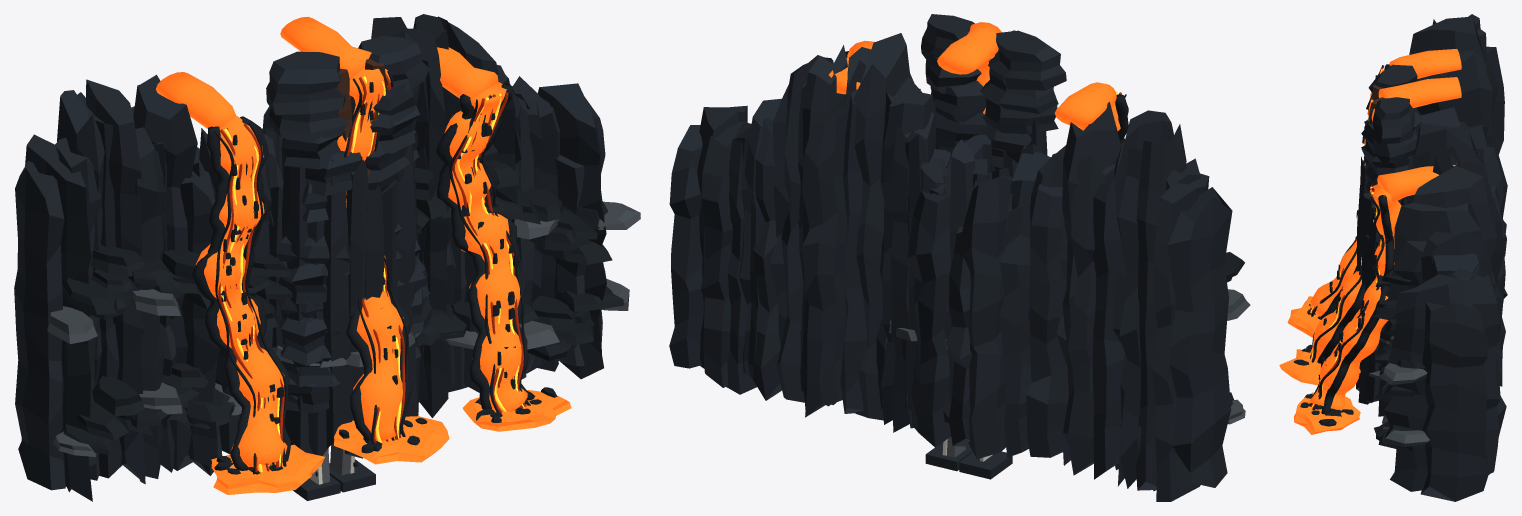
Rendered from cindercoil-hero-kit.glb.
3 views of the same model, side by side, from view 1: azimuth 30°, elevation 25°; view 2: azimuth 150°, elevation 25°; view 3: azimuth 270°, elevation 25° (orthographic). The views are drawn at different scales.
Parts seen in each view (by area): view 1: rupture_wall__Basalt, rupture_wall__Blackglass, hollow_tower__Basalt, rupture_left__Basalt, cascade_0__Lava, cascade_2__Lava, cascade_1__Lava, cascade_0__Blackglass, cascade_2__Blackglass, rupture_right__Basalt, rupture_wall__Ash, cascade_1__Blackglass (+7 smaller); view 2: rupture_wall__Basalt, rupture_left__Basalt, hollow_tower__Basalt, rupture_right__Basalt, cascade_1__Lava, cascade_0__Lava, broken_launch_pylon__Basalt, rupture_wall__Ash; view 3: rupture_wall__Basalt, cascade_2__Lava, rupture_right__Basalt, cascade_1__Lava, cascade_2__Blackglass, cascade_0__Lava, hollow_tower__Basalt, rupture_wall__Blackglass, rupture_wall__Ash, cascade_1__Blackglass, rupture_left__Basalt, cascade_0__Blackglass.
Boxes of the visible parts, x1,y1,x2,y2 form: rupture_wall__Basalt: [14, 14, 606, 501]; rupture_wall__Blackglass: [60, 160, 624, 454]; hollow_tower__Basalt: [261, 106, 420, 458]; rupture_left__Basalt: [266, 51, 362, 413]; cascade_0__Lava: [156, 72, 324, 494]; cascade_2__Lava: [437, 47, 571, 431]; cascade_1__Lava: [280, 16, 449, 464]; cascade_0__Blackglass: [192, 116, 291, 474]; cascade_2__Blackglass: [436, 84, 557, 422]; rupture_right__Basalt: [358, 36, 432, 358]; rupture_wall__Ash: [47, 201, 640, 456]; cascade_1__Blackglass: [336, 70, 427, 453]; rupture_wall__Basalt: [669, 33, 1232, 501]; rupture_left__Basalt: [979, 30, 1066, 170]; hollow_tower__Basalt: [901, 119, 1047, 425]; rupture_right__Basalt: [921, 14, 987, 155]; cascade_1__Lava: [937, 22, 1001, 113]; cascade_0__Lava: [1054, 82, 1120, 131]; broken_launch_pylon__Basalt: [925, 442, 1012, 479]; rupture_wall__Ash: [1227, 289, 1250, 424]; rupture_wall__Basalt: [1384, 14, 1507, 501]; cascade_2__Lava: [1294, 164, 1456, 434]; rupture_right__Basalt: [1361, 97, 1417, 370]; cascade_1__Lava: [1279, 77, 1461, 385]; cascade_2__Blackglass: [1300, 183, 1394, 426]; cascade_0__Lava: [1287, 49, 1461, 337]; hollow_tower__Basalt: [1356, 149, 1483, 416]; rupture_wall__Blackglass: [1371, 267, 1425, 448]; rupture_wall__Ash: [1369, 335, 1429, 446]; cascade_1__Blackglass: [1294, 96, 1373, 365]; rupture_left__Basalt: [1364, 64, 1423, 165]; cascade_0__Blackglass: [1307, 64, 1389, 319].
Bounding box in the file's own units: 486 × 364 × 213.
